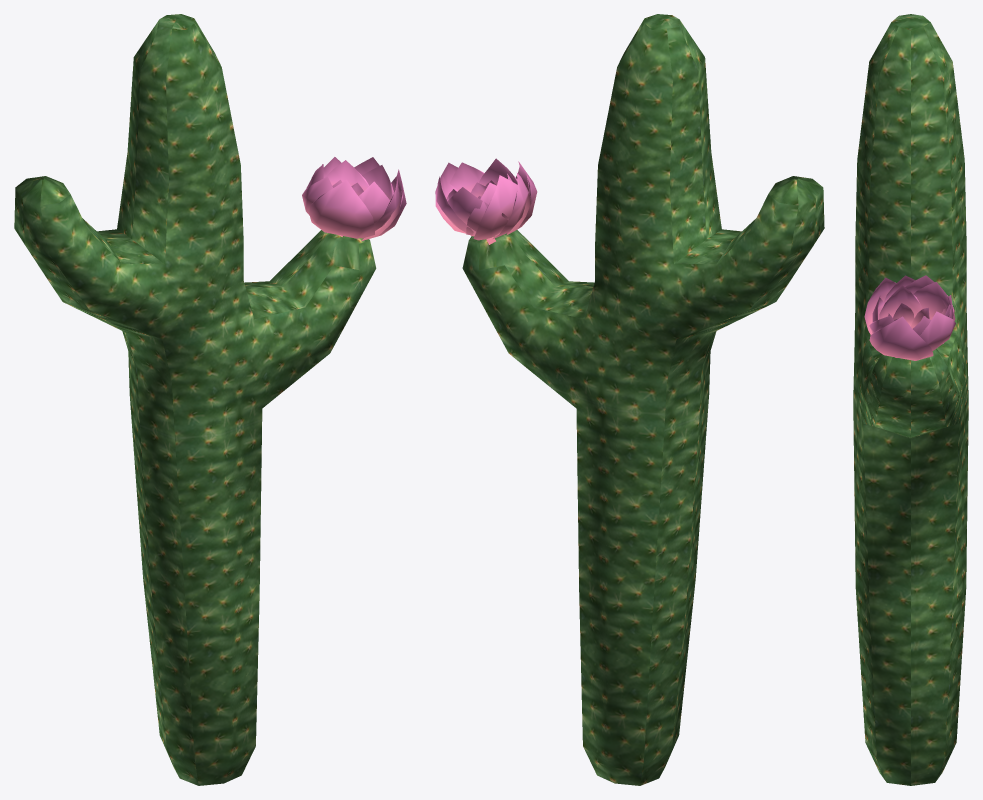
File: VEG0410024.fbx
3 renders of one model, left to right at view 1: azimuth 30°, elevation 25°; view 2: azimuth 150°, elevation 25°; view 3: azimuth 270°, elevation 25°, orthographic. The views are drawn at different scales.
Visible parts, largest first — view 1: smVEG0410024; view 2: smVEG0410024; view 3: smVEG0410024.
Part boxes in pixels (x1,y1,x2,y2): smVEG0410024: (14,14,406,785); smVEG0410024: (435,14,824,785); smVEG0410024: (853,14,968,785).
Bounding box in the file's own units: 121 × 234 × 33.07.
1 material, 1 textured.
